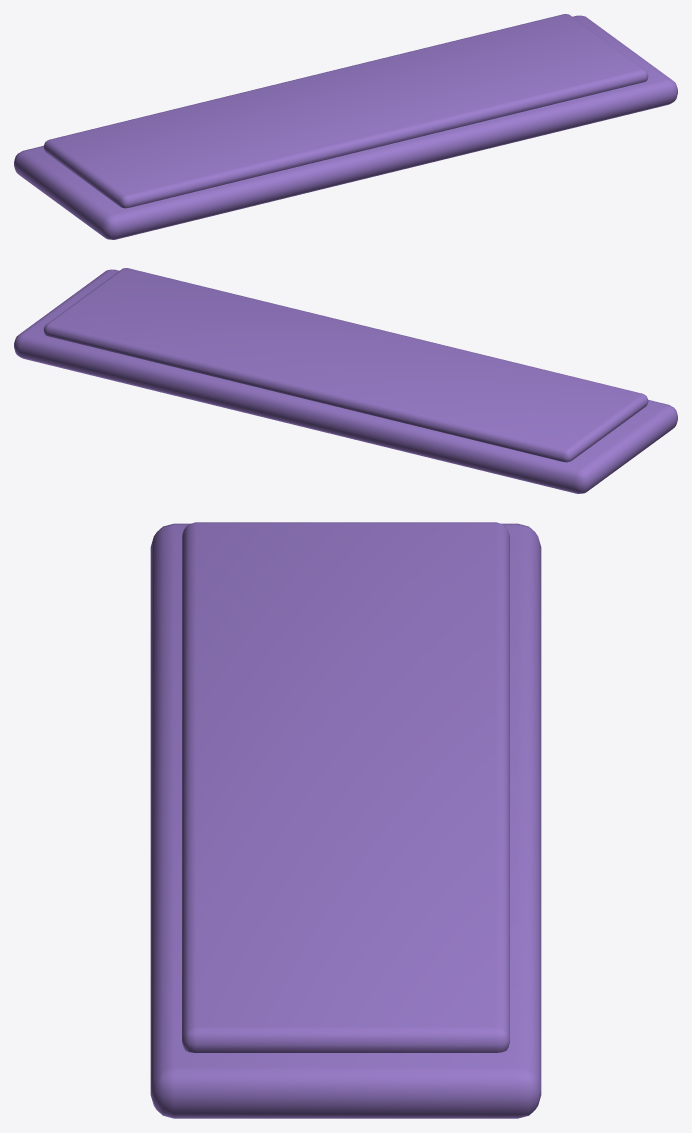
The model's file is TankLid.fbx.
The picture shows the model from 3 angles, top to bottom: view 1: azimuth 30°, elevation 25°; view 2: azimuth 150°, elevation 25°; view 3: azimuth 270°, elevation 25°; orthographic projection. The views are drawn at different scales.
Visible parts, largest first — view 1: TankLid; view 2: TankLid; view 3: TankLid.
Boxes of the visible parts, bbox=[...] form: TankLid: bbox=[14, 14, 677, 239]; TankLid: bbox=[14, 268, 677, 493]; TankLid: bbox=[150, 522, 541, 1118].
Bounding box in the file's own units: 17 × 1 × 5.
